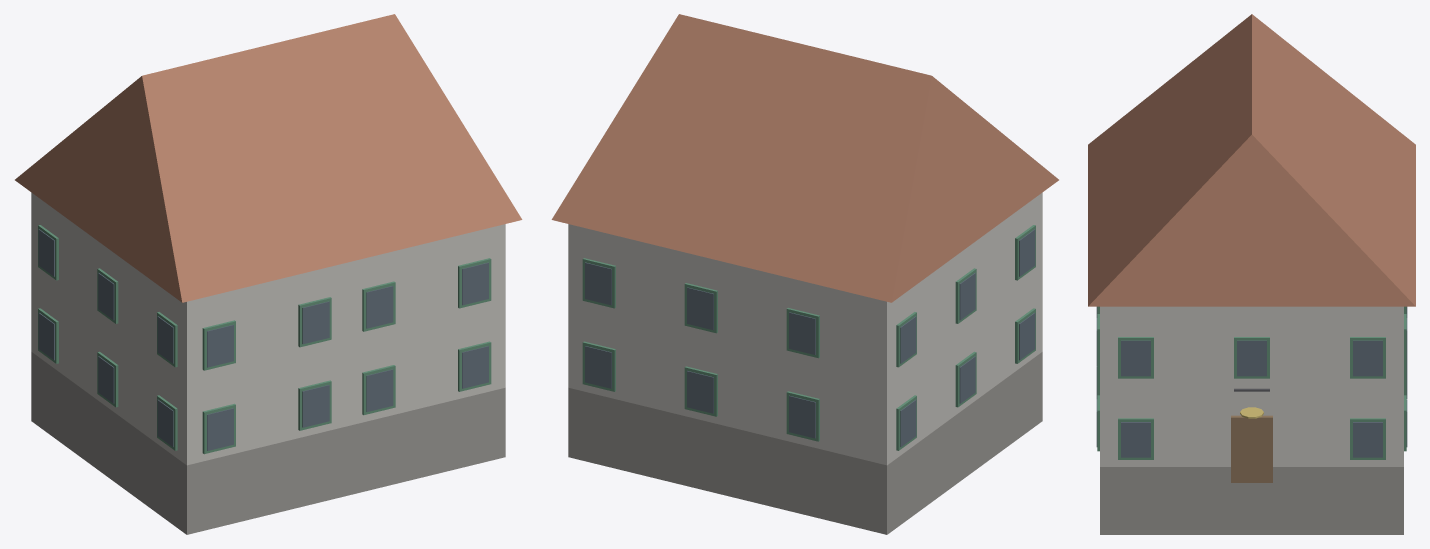
File: landmark-inn-landgasthof-krone.glb
3 views of the same model, side by side, from view 1: azimuth 30°, elevation 25°; view 2: azimuth 150°, elevation 25°; view 3: azimuth 270°, elevation 25° (orthographic). The views are drawn at different scales.
Parts seen in each view (by area): view 1: building; view 2: building; view 3: building.
Part boxes in pixels (x1,y1,x2,y2): building: [15, 14, 522, 534]; building: [551, 14, 1058, 534]; building: [1088, 14, 1415, 534].
Bounding box in the file's own units: 13.93 × 14.18 × 10.94.
